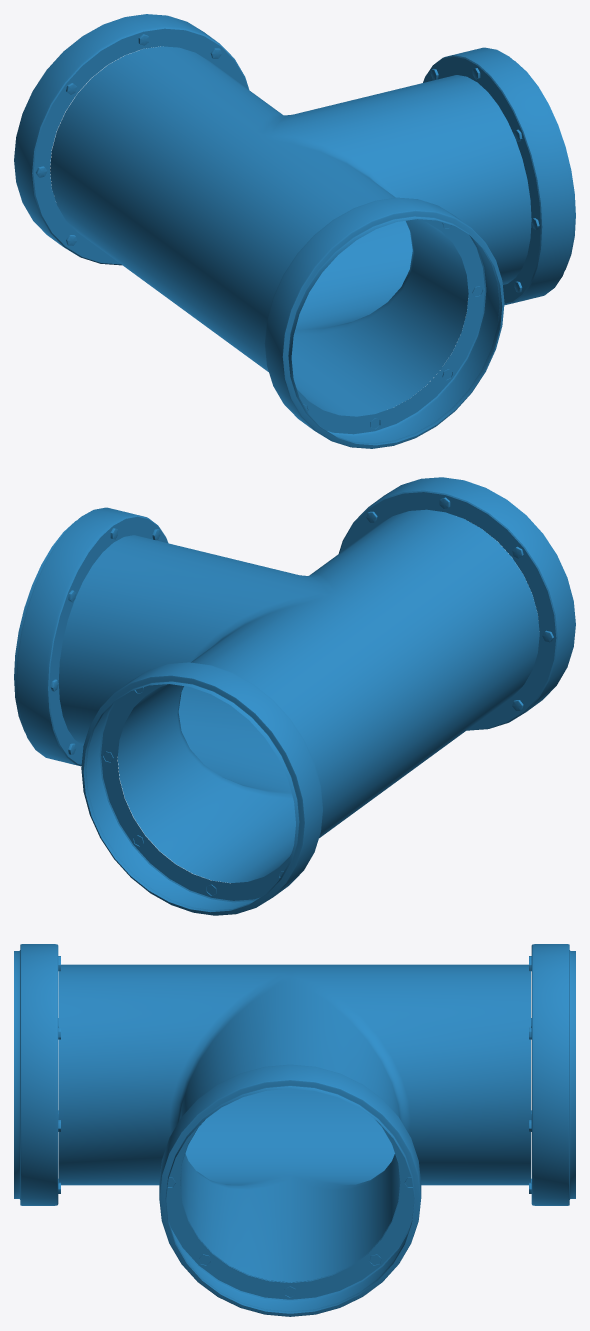
Rendered from Sub_TPipe_Pix.fbx.
3 views of the same model, one above another, from view 1: azimuth 30°, elevation 25°; view 2: azimuth 150°, elevation 25°; view 3: azimuth 270°, elevation 25° (orthographic). The views are drawn at different scales.
Visible parts, largest first — view 1: sub_CurvePipe005; view 2: sub_CurvePipe005; view 3: sub_CurvePipe005.
Part boxes in pixels (<box>): sub_CurvePipe005: <box>14,14,575,448</box>; sub_CurvePipe005: <box>14,477,575,915</box>; sub_CurvePipe005: <box>14,944,575,1316</box>.
Size of the model in its own units: 82.94 by 50.56 by 108.
